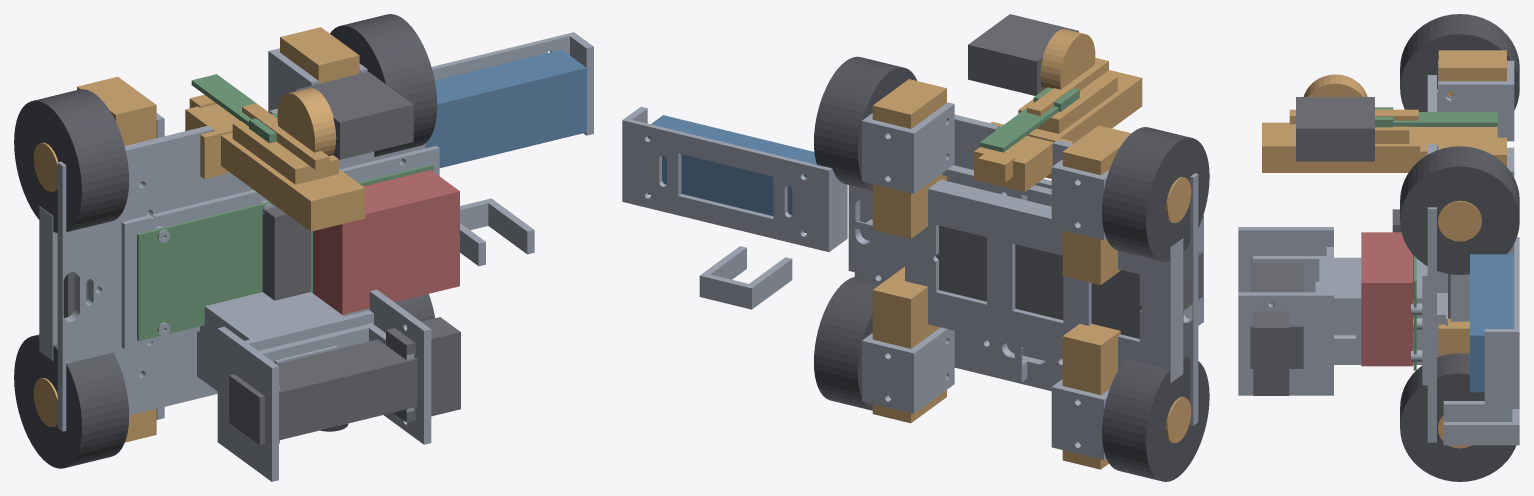
Rendered from rover_mock.glb.
3 renders of one model, left to right at view 1: azimuth 30°, elevation 25°; view 2: azimuth 150°, elevation 25°; view 3: azimuth 270°, elevation 25°, orthographic. The views are drawn at different scales.
Visible parts, largest first — view 1: deck, L298P shield (mock), lipo pack (on cradle), Pi 4B (mock), C920 camera (mock), wheel LF (mock), turret yoke, wheel LR (mock), probe frame (MOCK, CAD lost), wheel RF (mock), probe servo (MOCK), turret base (+20 smaller); view 2: powerbank sling, lipo cradle (spare), deck, wheel LF (mock), wheel LR (mock), power bank (mock), wheel RF (mock), lipo pack (on cradle), motor clamp RF, motor clamp RR, wheel RR (mock), TT motor RF (mock) (+16 smaller); view 3: wheel RF (mock), turret yoke, L298P shield (mock), wheel RR (mock), wheel LF (mock), probe servo (MOCK), probe frame (MOCK, CAD lost), lipo pack (on cradle), turret base, deck, lipo cradle (spare), motor gauge (spare) (+15 smaller).
Part boxes in pixels (x1,y1,x2,y2): deck: [57, 108, 425, 431]; L298P shield (mock): [313, 170, 459, 314]; lipo pack (on cradle): [425, 49, 586, 168]; Pi 4B (mock): [137, 201, 274, 341]; C920 camera (mock): [229, 339, 417, 444]; wheel LF (mock): [14, 89, 129, 232]; turret yoke: [217, 289, 431, 481]; wheel LR (mock): [14, 334, 129, 468]; probe frame (MOCK, CAD lost): [185, 104, 365, 231]; wheel RF (mock): [330, 14, 437, 156]; probe servo (MOCK): [295, 71, 413, 159]; turret base: [197, 292, 343, 390]; powerbank sling: [905, 179, 1183, 383]; lipo cradle (spare): [622, 106, 847, 251]; deck: [854, 114, 1198, 425]; wheel LF (mock): [1102, 127, 1209, 261]; wheel LR (mock): [1102, 356, 1209, 481]; power bank (mock): [936, 225, 1183, 355]; wheel RF (mock): [814, 56, 917, 190]; lipo pack (on cradle): [647, 115, 816, 233]; motor clamp RF: [862, 102, 954, 193]; motor clamp RR: [862, 327, 954, 413]; wheel RR (mock): [814, 276, 882, 410]; TT motor RF (mock): [872, 79, 946, 238]; wheel RF (mock): [1400, 146, 1519, 274]; turret yoke: [1238, 227, 1333, 395]; L298P shield (mock): [1361, 232, 1412, 366]; wheel RR (mock): [1400, 353, 1516, 481]; wheel LF (mock): [1400, 14, 1519, 111]; probe servo (MOCK): [1296, 97, 1374, 161]; probe frame (MOCK, CAD lost): [1262, 122, 1479, 172]; lipo pack (on cradle): [1470, 253, 1514, 392]; turret base: [1334, 257, 1422, 364]; deck: [1427, 75, 1447, 442]; lipo cradle (spare): [1484, 237, 1519, 408]; motor gauge (spare): [1443, 401, 1519, 445].
Size of the model in its own units: 311 by 198 by 153.
